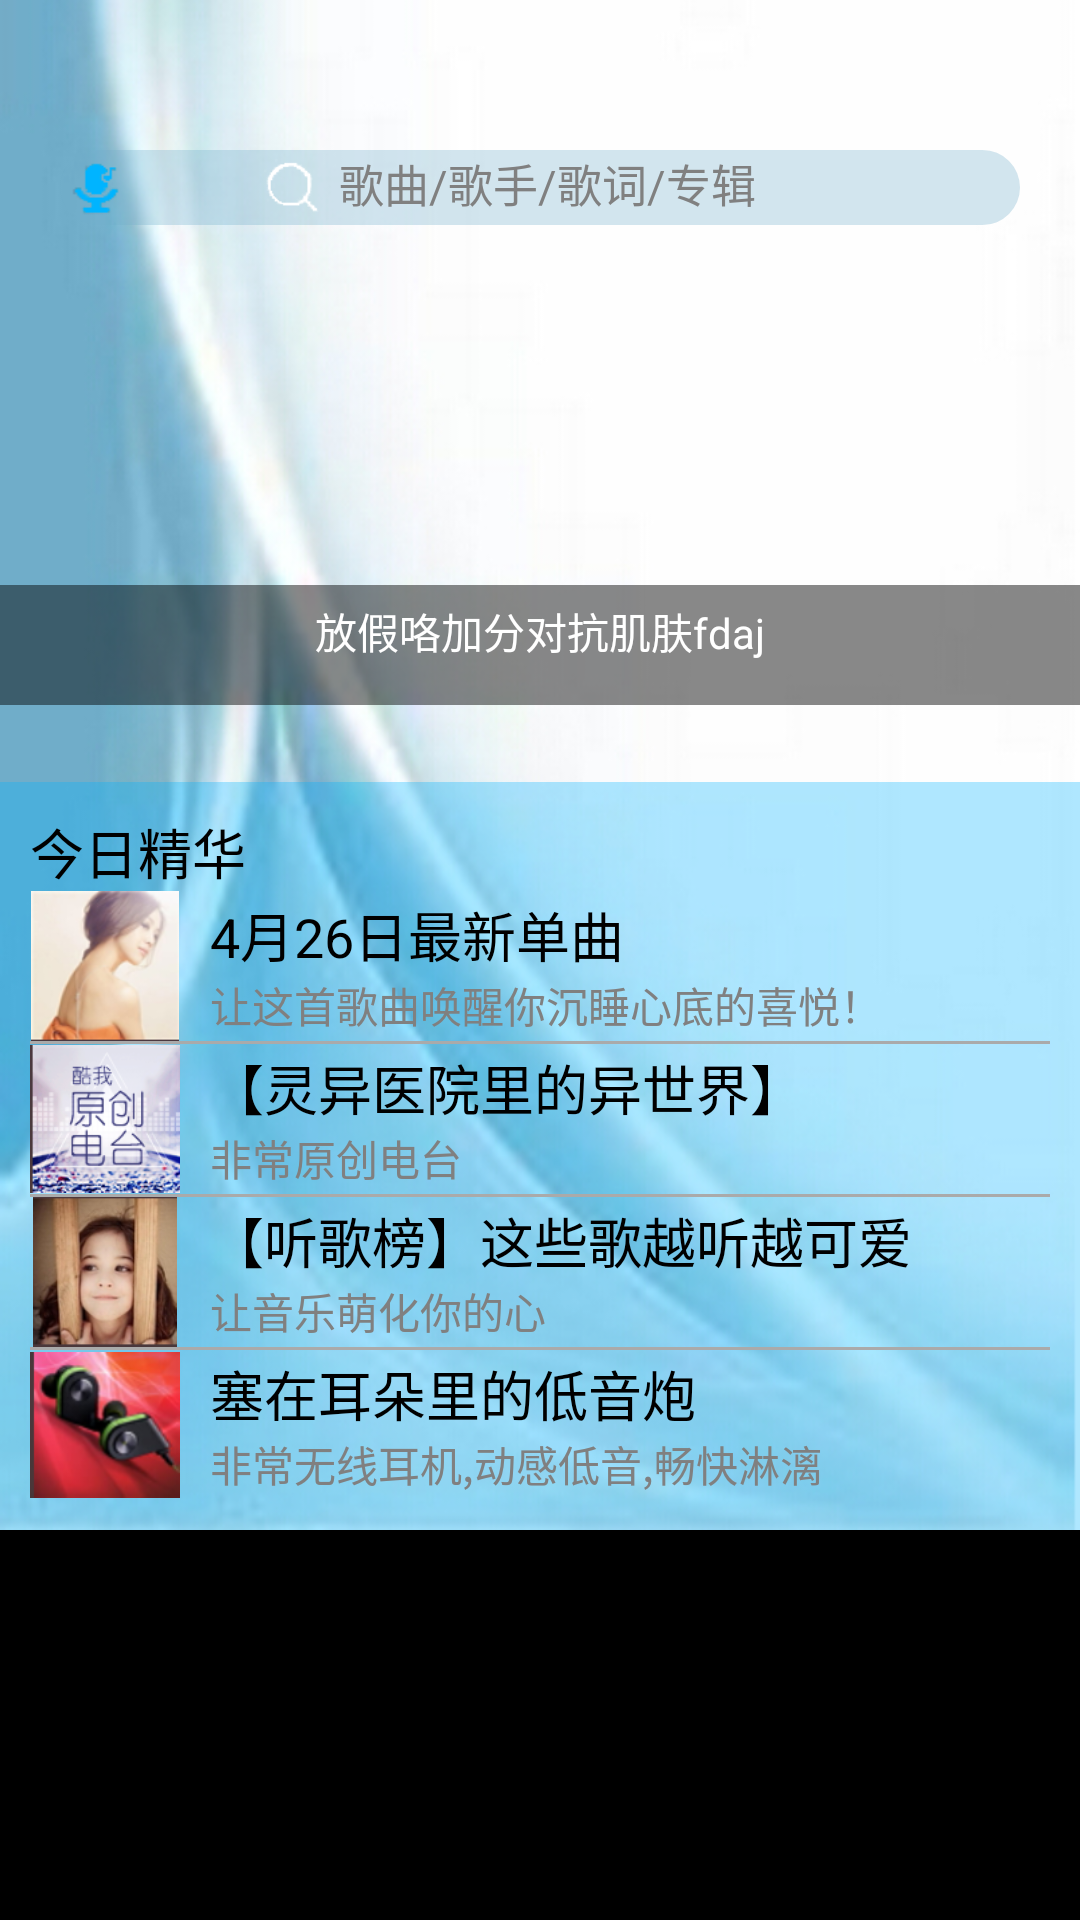

Icons on this 1080x1920 Android screen, each with the point to tap as (x=x, y=y):
local search: (x=292, y=187)
musicdb stickinear: (x=105, y=1425)
online audio search: (x=96, y=188)
